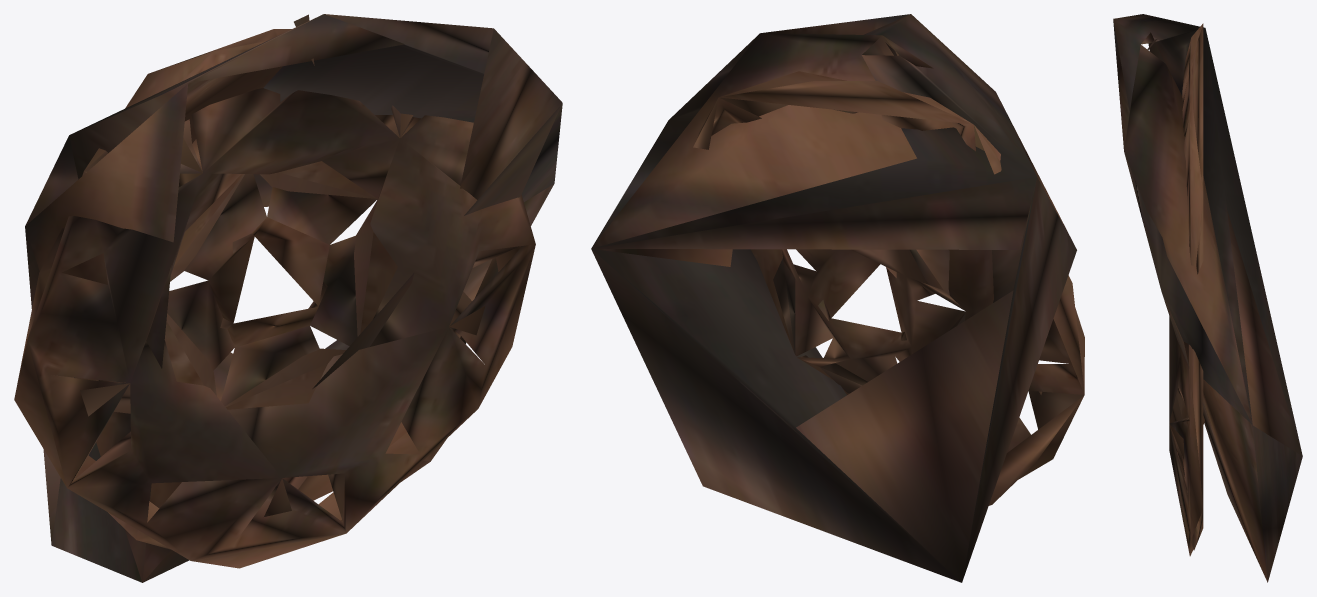
File: yardprop_rusted_wheel_rim_01.glb
3 views of the same model, side by side, from view 1: azimuth 30°, elevation 25°; view 2: azimuth 150°, elevation 25°; view 3: azimuth 270°, elevation 25° (orthographic). The views are drawn at different scales.
Visible parts, largest first — view 1: rusted_wheel_rim_01; view 2: rusted_wheel_rim_01; view 3: rusted_wheel_rim_01.
Boxes of the visible parts, <box> form: rusted_wheel_rim_01: <box>14,14,562,582</box>; rusted_wheel_rim_01: <box>591,14,1084,582</box>; rusted_wheel_rim_01: <box>1113,14,1302,582</box>.
Bounding box in the file's own units: 0.3868 × 0.382 × 0.1245.
1 material, 1 textured.
